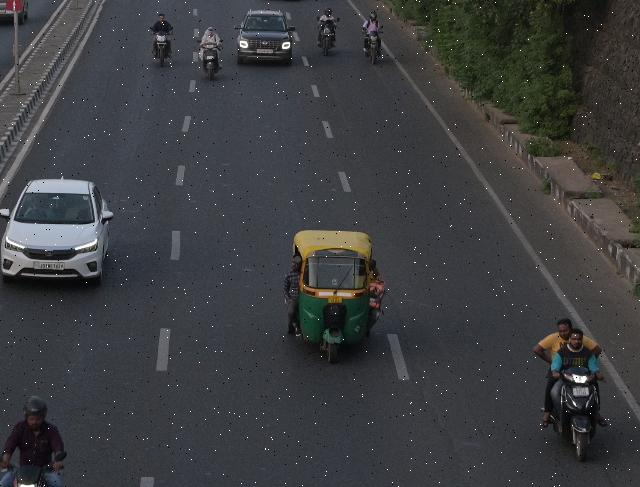With Helmet: (20, 394, 50, 430), (368, 11, 378, 21), (324, 6, 332, 18)
Without Helmet: (553, 316, 575, 339), (565, 328, 587, 351), (158, 13, 166, 23), (206, 27, 214, 35)
